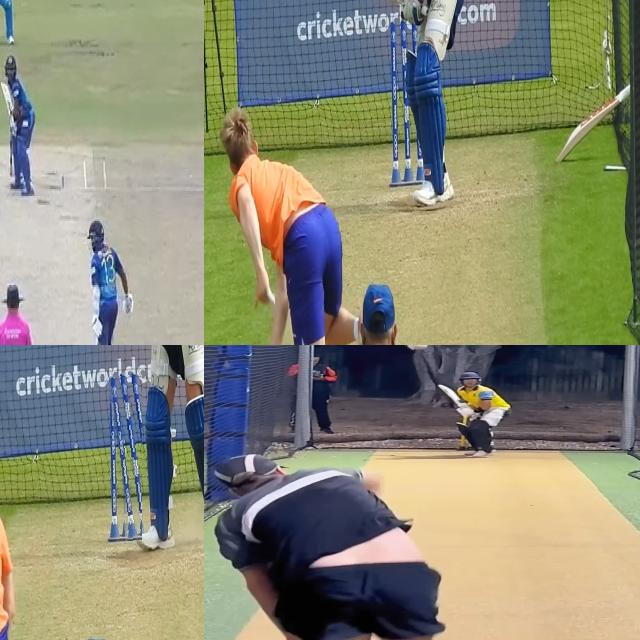Cricket ball: (405, 345, 434, 354)
Stumps: (107, 372, 142, 541), (389, 20, 424, 187)
